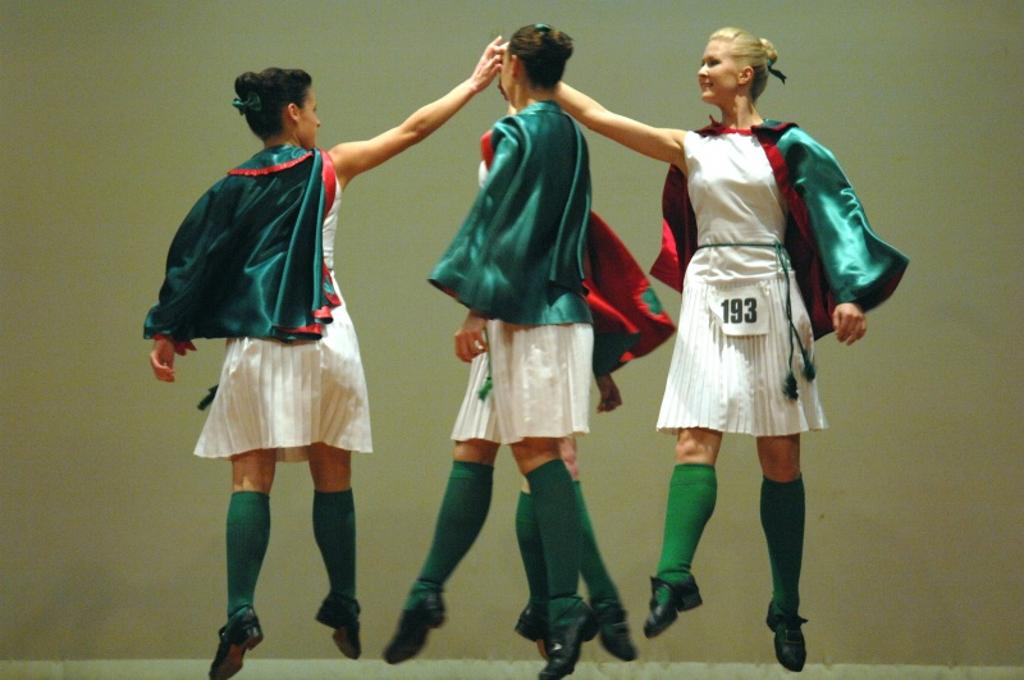face: (697, 42, 742, 98), (290, 90, 323, 146)
